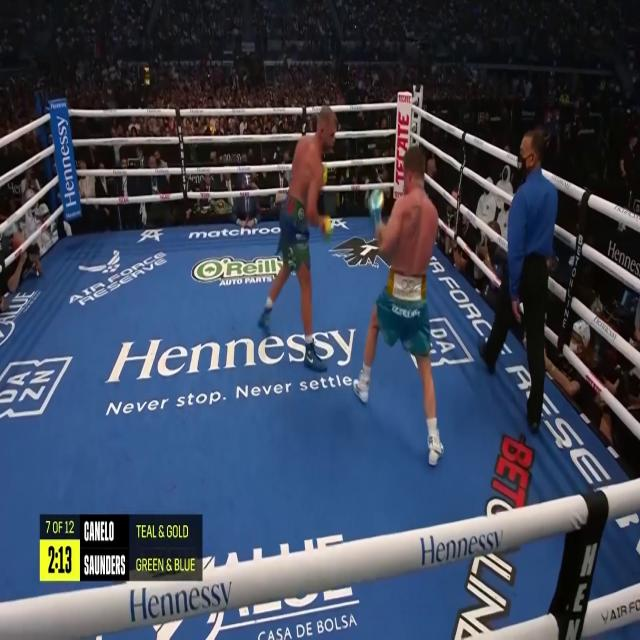boxer_1: (288, 107, 337, 228)
boxer_2: (379, 186, 439, 275)
gloves_2: (368, 188, 384, 225)
